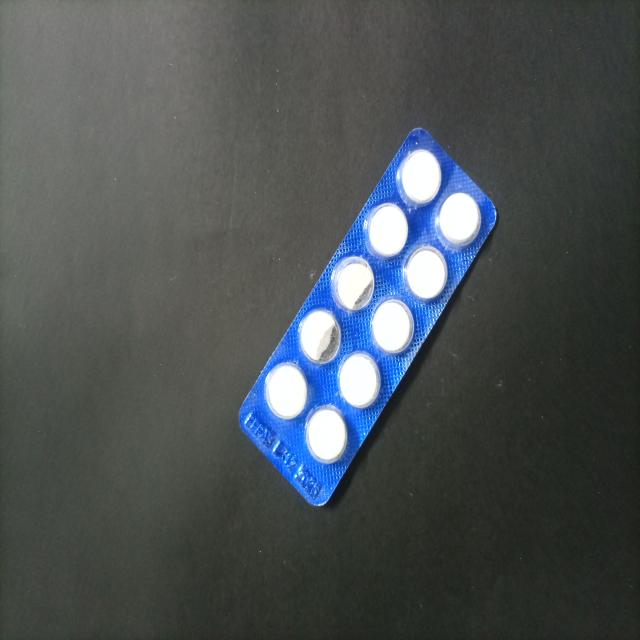defect: (332, 252, 379, 312), (298, 310, 342, 366)
